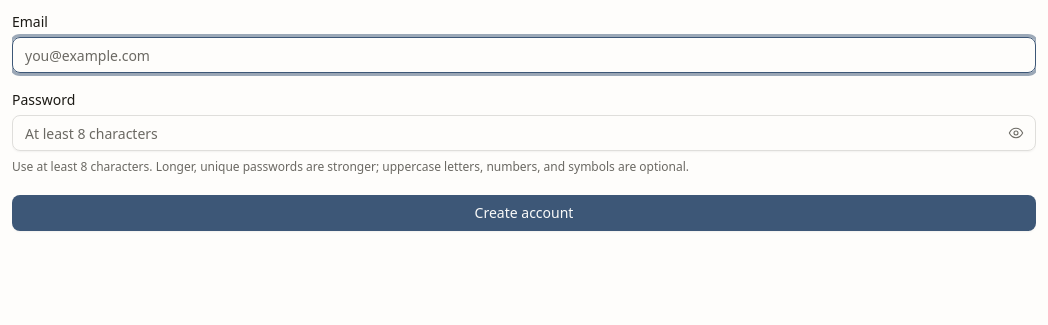
Test: SignupForm › refuses a password shorter than eight characters before hitting the API
The width and height of the screenshot is (1048, 325).
Step 1. Type "kartik@example.com" into the field labelled "Email" → [524, 55], box [12, 37, 1036, 73]
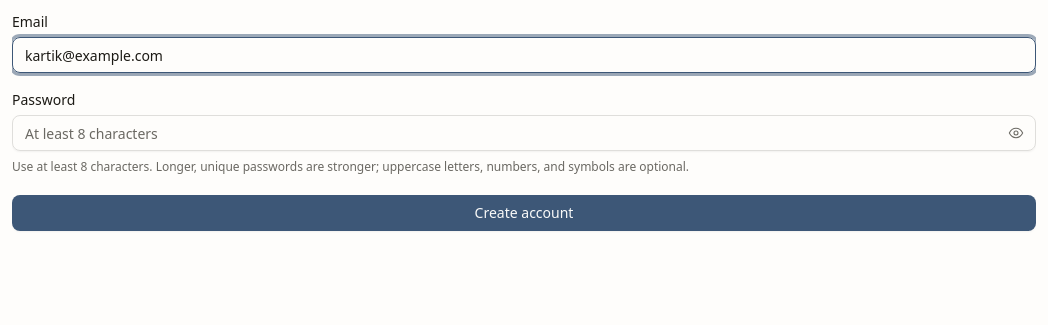
Step 2. Type "short7!" into the password field labelled "Password" → [524, 133], box [12, 115, 1036, 151]
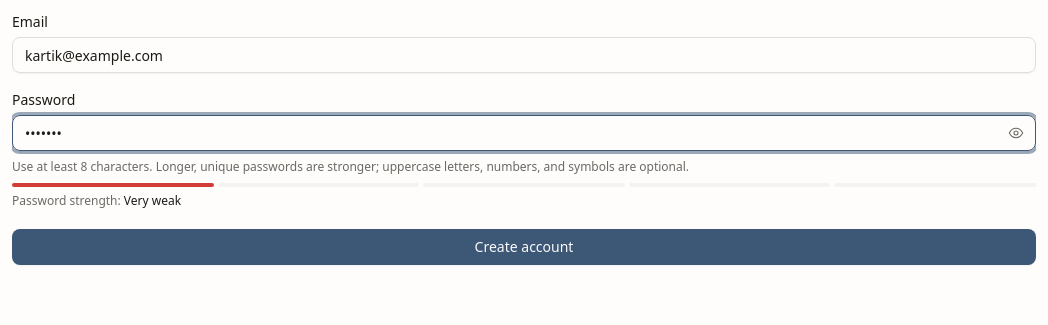
Step 3. Click the button "Create account" → [524, 247], box [12, 229, 1036, 265]
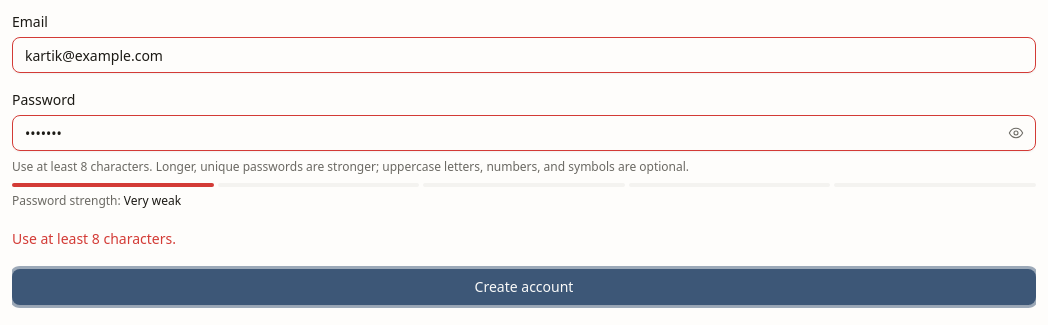
expect the message shows "at least 8 characters": met, box [12, 229, 176, 248]
